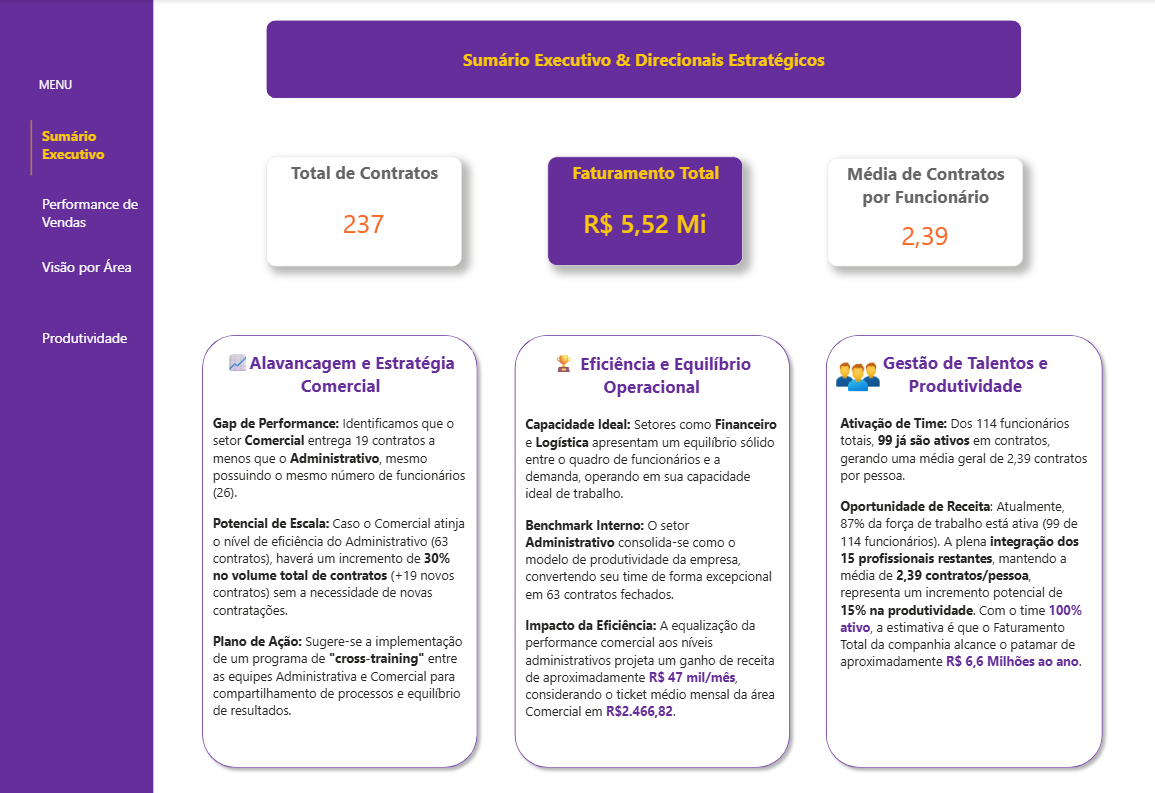

Layout of this report page (visuals, bound fields, positions):
{"tool":"powerbi","page":{"name":"Sumário Executivo","canvas":[1450,1000],"ordinal":0},"visuals":[{"type":"shape","box":[0,0,192,1000],"z":0},{"type":"shape","box":[48.5,84,100,44],"z":1000},{"type":"actionButton","box":[47.8,235.6,132.2,63.3],"z":2000},{"type":"actionButton","box":[47.8,303.3,132.2,62.2],"z":3000},{"type":"shape","box":[29,152,19,69],"z":4000},{"type":"actionButton","box":[47.8,392.2,132.2,62.2],"z":5000},{"type":"actionButton","box":[48,152,134,61],"z":6000},{"type":"shape","box":[333.6,27.3,945.7,97.8],"z":7000},{"type":"cardVisual","title":"Faturamento Total","fields":{"Data":["Sum(Ranking_Top5_Vendas.Valor Total Contratos Fechados )"]},"box":[685.1,197.4,244.6,137],"z":8000},{"type":"cardVisual","title":"Total de Contratos","fields":{"Data":["Tab Medidas.Total Contratos Fechados"]},"box":[333.6,197.2,244.6,137.2],"z":9000},{"type":"cardVisual","title":"Média de Contratos por Funcionário ","fields":{"Data":["Tab Medidas.Taxa de Produtividade (Contratos p/ Funcionário)"]},"box":[1036.6,198.7,244.6,135.7],"z":10000},{"type":"shape","box":[244.6,412.2,362.8,560],"z":11000},{"type":"textbox","title":"📈Alavancagem e Estratégia Comercial","box":[261,440,330,491],"z":12000},{"type":"shape","box":[635.1,412.2,362.8,560],"z":13000},{"type":"shape","box":[1025.6,412.2,364.4,560],"z":14000},{"type":"textbox","title":"🏆 Eficiência e Equilíbrio Operacional","box":[653.3,442.2,326.7,480],"z":15000},{"type":"textbox","title":"Gestão de Talentos e Produtividade","box":[1046.7,440,323.3,491.1],"z":16000},{"type":"image","box":[1046.7,440,54.4,64.4],"z":17000}]}

Visuals, with their boxes on the page's 1450x1000 design canvas (x1, y1, x2, y2). These are canvas units, not pixel positions in the 1155x793 screenshot, which may show the page scaled, cropped or inside an application window:
shape: crop(0, 0, 192, 1000)
shape: crop(48, 84, 148, 128)
actionButton: crop(48, 236, 180, 299)
actionButton: crop(48, 303, 180, 366)
shape: crop(29, 152, 48, 221)
actionButton: crop(48, 392, 180, 454)
actionButton: crop(48, 152, 182, 213)
shape: crop(334, 27, 1279, 125)
"Faturamento Total" cardVisual: crop(685, 197, 930, 334)
"Total de Contratos" cardVisual: crop(334, 197, 578, 334)
"Média de Contratos por Funcionário " cardVisual: crop(1037, 199, 1281, 334)
shape: crop(245, 412, 607, 972)
"📈Alavancagem e Estratégia Comercial" textbox: crop(261, 440, 591, 931)
shape: crop(635, 412, 998, 972)
shape: crop(1026, 412, 1390, 972)
"🏆 Eficiência e Equilíbrio Operacional" textbox: crop(653, 442, 980, 922)
"Gestão de Talentos e Produtividade" textbox: crop(1047, 440, 1370, 931)
image: crop(1047, 440, 1101, 504)
